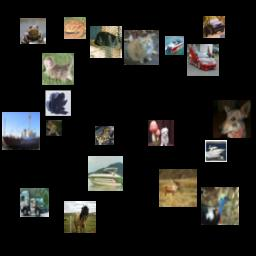automobile: (187, 44, 219, 76), (203, 16, 225, 38)
bird: (201, 187, 239, 225)
cat: (124, 30, 159, 65), (90, 26, 122, 58), (42, 53, 74, 85), (46, 120, 62, 136)
deer: (159, 169, 197, 207)
dog: (213, 100, 251, 138), (148, 120, 174, 146)
frog: (45, 90, 71, 116), (20, 18, 46, 44), (64, 17, 86, 39), (95, 126, 114, 145)
ship: (2, 112, 40, 150), (88, 156, 123, 191), (205, 140, 227, 162), (165, 36, 184, 55)
truck: (20, 188, 49, 217)
